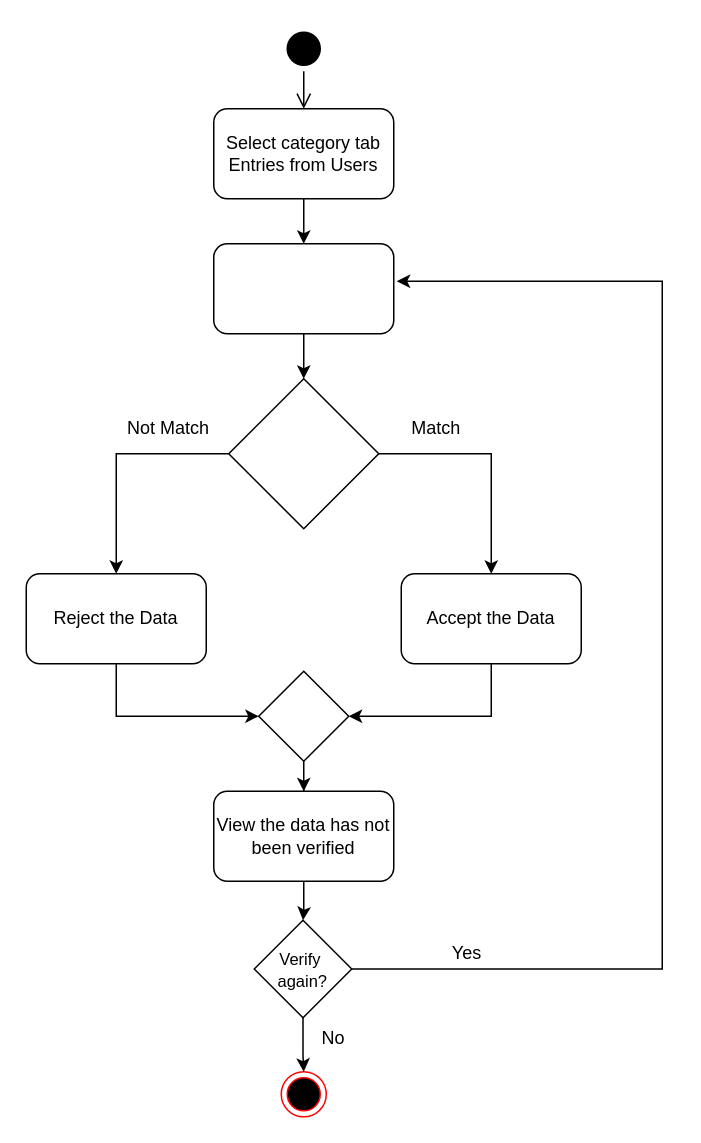
Some shapes in this 701 by 1143 pixel diagram are drawn without their labels. The centre of each missing label's shape, as x and y in pixels:
"Match the data with actual data" belongs at (x=303, y=453).
"Select the data that want to verify" belongs at (x=303, y=288).
